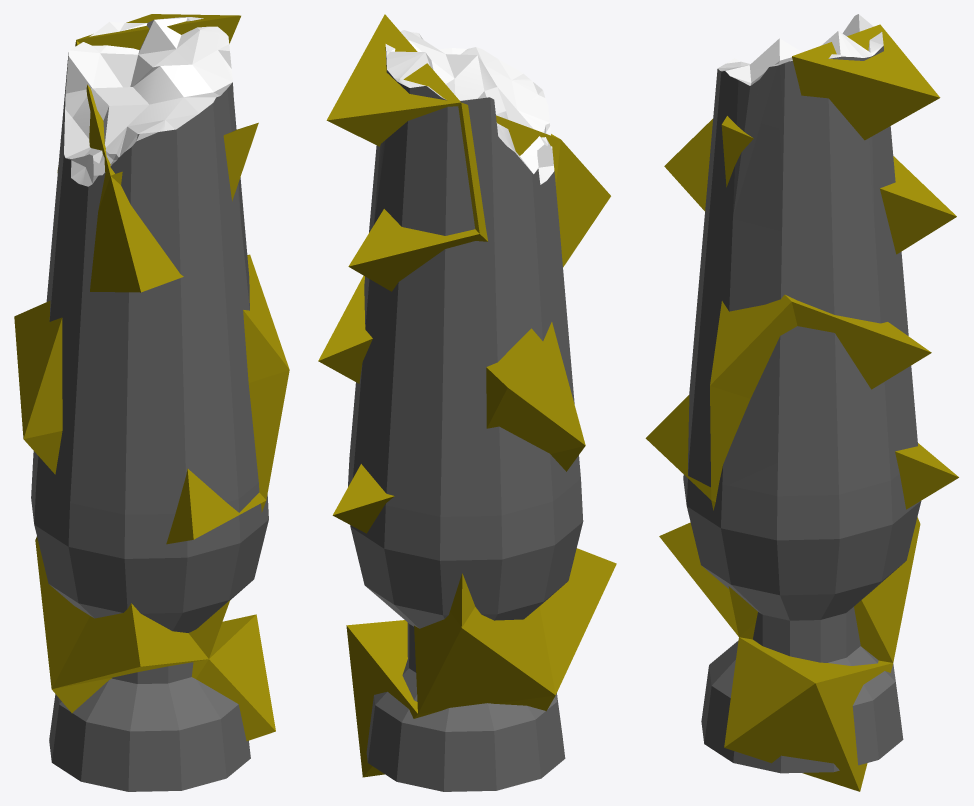
The model's file is SMT_Pillar_Range_02.fbx.
The picture shows the model from 3 angles, left to right: view 1: azimuth 30°, elevation 25°; view 2: azimuth 150°, elevation 25°; view 3: azimuth 270°, elevation 25°; orthographic projection.
Parts seen in each view (by area): view 1: SM_Pillar_Range_02, chunk3_27, chunk18_14, chunk20_16, chunk7_4, chunk25_21, chunk13_9, chunk12_7, chunk1_25, chunk26_22, chunk17_13, chunk4_0 (+3 smaller); view 2: SM_Pillar_Range_02, chunk0_24, chunk26_22, chunk20_16, chunk3_27, chunk14_10, chunk1_25, chunk18_14, chunk19_15, chunk6_2, chunk22_18, chunk7_4 (+3 smaller); view 3: SM_Pillar_Range_02, chunk26_22, chunk6_2, chunk7_4, chunk22_18, chunk0_24, chunk14_10, chunk25_21, chunk24_20, chunk12_7, chunk3_27, chunk8_6 (+4 smaller).
Part boxes in pixels (bbox=[...]): SM_Pillar_Range_02: bbox=[31, 17, 268, 791]; chunk3_27: bbox=[52, 603, 208, 688]; chunk18_14: bbox=[90, 176, 183, 292]; chunk20_16: bbox=[14, 301, 62, 438]; chunk7_4: bbox=[196, 614, 275, 740]; chunk25_21: bbox=[243, 255, 289, 382]; chunk13_9: bbox=[166, 468, 266, 544]; chunk12_7: bbox=[248, 370, 289, 499]; chunk1_25: bbox=[35, 540, 89, 688]; chunk26_22: bbox=[76, 14, 240, 49]; chunk17_13: bbox=[111, 122, 258, 201]; chunk4_0: bbox=[52, 659, 208, 713]; SM_Pillar_Range_02: bbox=[348, 30, 583, 791]; chunk0_24: bbox=[414, 612, 554, 713]; chunk26_22: bbox=[326, 14, 460, 146]; chunk20_16: bbox=[486, 322, 585, 445]; chunk3_27: bbox=[539, 548, 616, 694]; chunk14_10: bbox=[348, 209, 479, 291]; chunk1_25: bbox=[462, 606, 555, 694]; chunk18_14: bbox=[556, 140, 610, 267]; chunk19_15: bbox=[486, 367, 585, 453]; chunk6_2: bbox=[346, 625, 422, 777]; chunk22_18: bbox=[318, 275, 372, 383]; chunk7_4: bbox=[346, 620, 417, 713]; SM_Pillar_Range_02: bbox=[683, 14, 921, 773]; chunk26_22: bbox=[792, 24, 940, 140]; chunk6_2: bbox=[724, 663, 893, 791]; chunk7_4: bbox=[724, 637, 892, 747]; chunk22_18: bbox=[792, 300, 931, 389]; chunk0_24: bbox=[739, 524, 920, 662]; chunk14_10: bbox=[880, 156, 956, 254]; chunk25_21: bbox=[710, 294, 796, 385]; chunk24_20: bbox=[710, 302, 797, 398]; chunk12_7: bbox=[710, 386, 750, 499]; chunk3_27: bbox=[659, 522, 738, 636]; chunk8_6: bbox=[895, 443, 958, 509].
Size of the model in its own units: 90.15 by 269 by 103.
